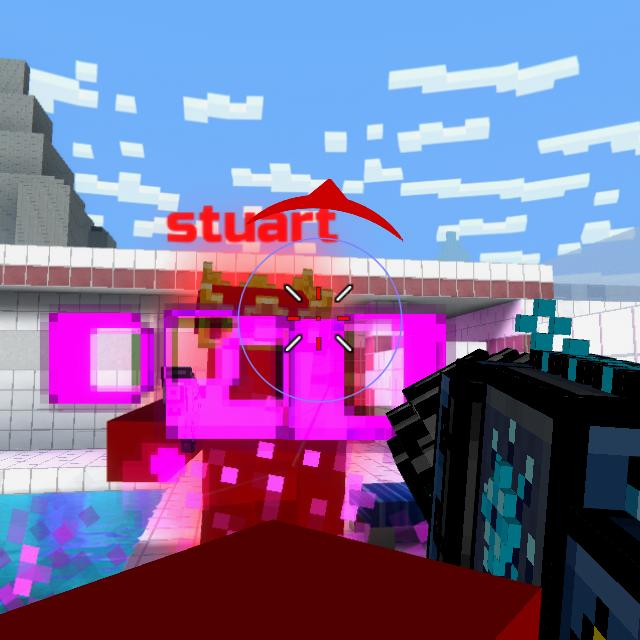Enemy: (106, 284, 346, 544)
